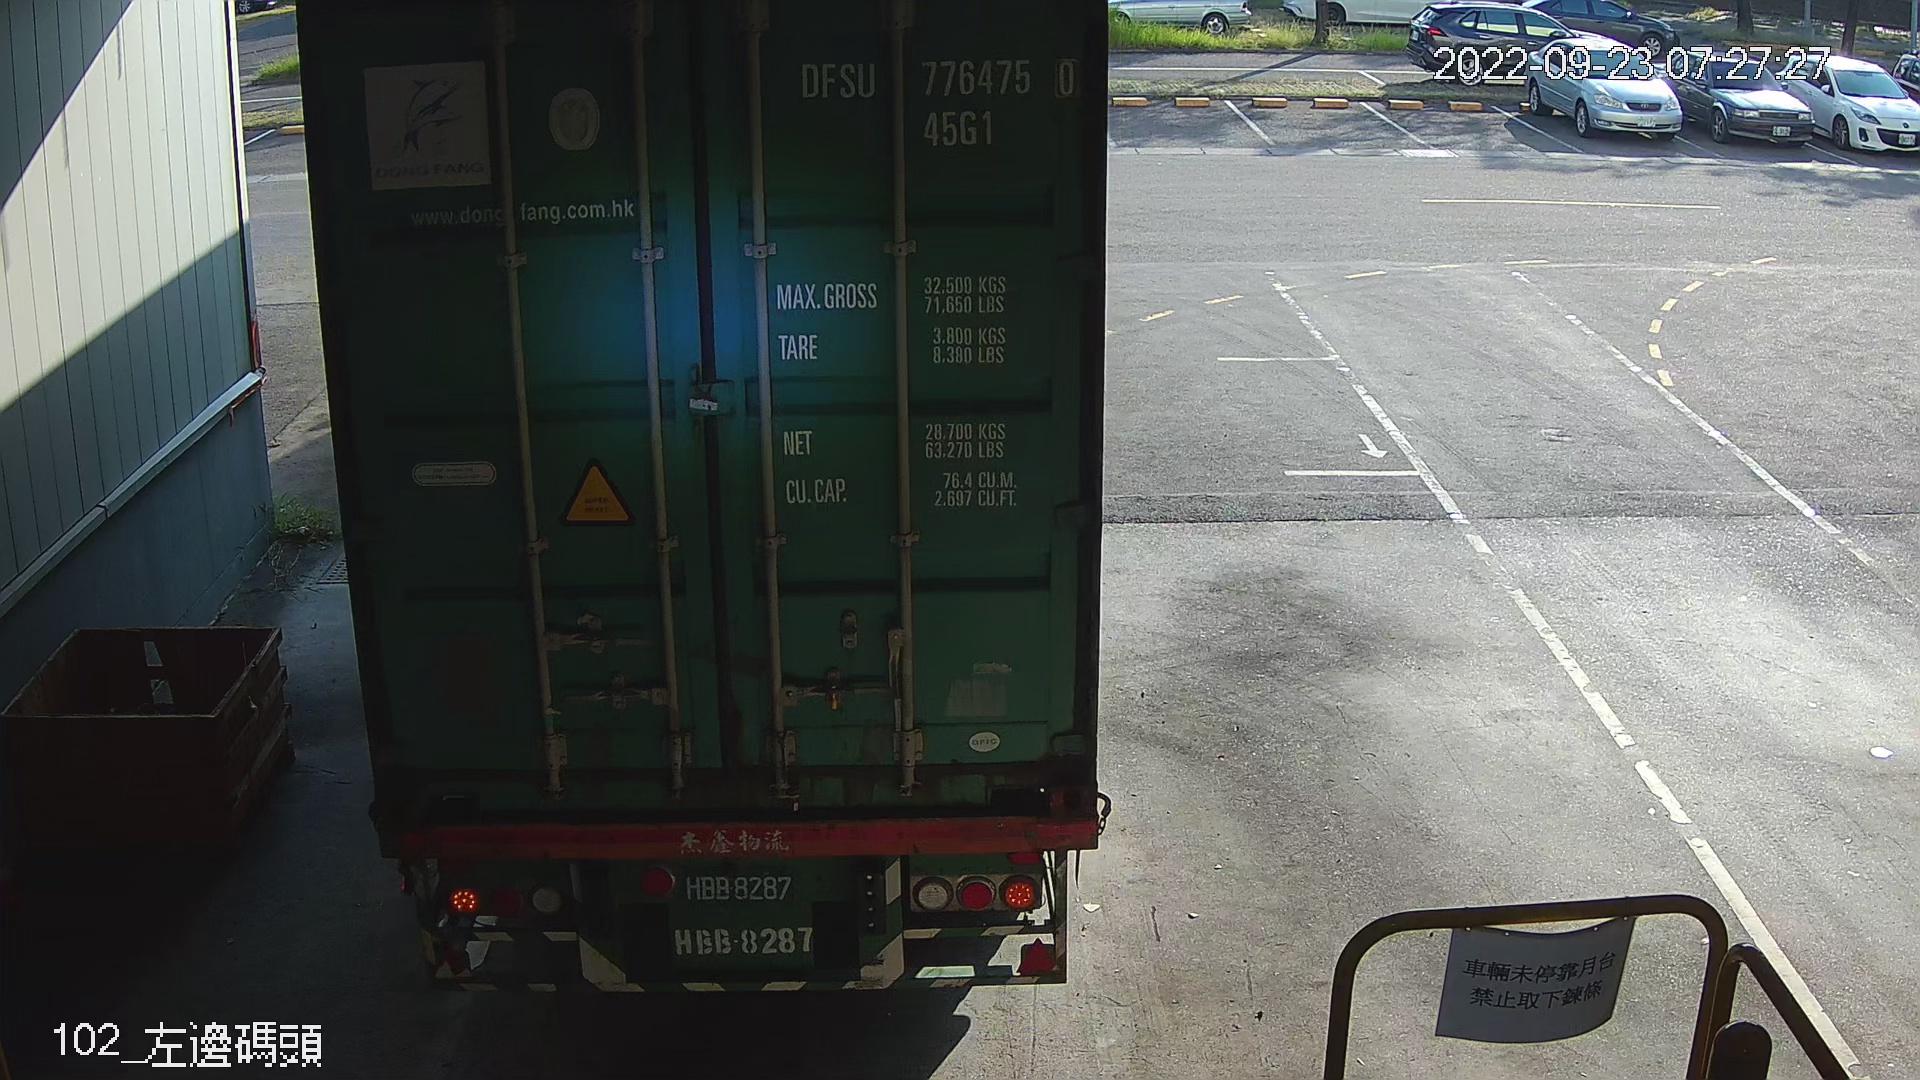container: (789, 49, 1088, 156)
